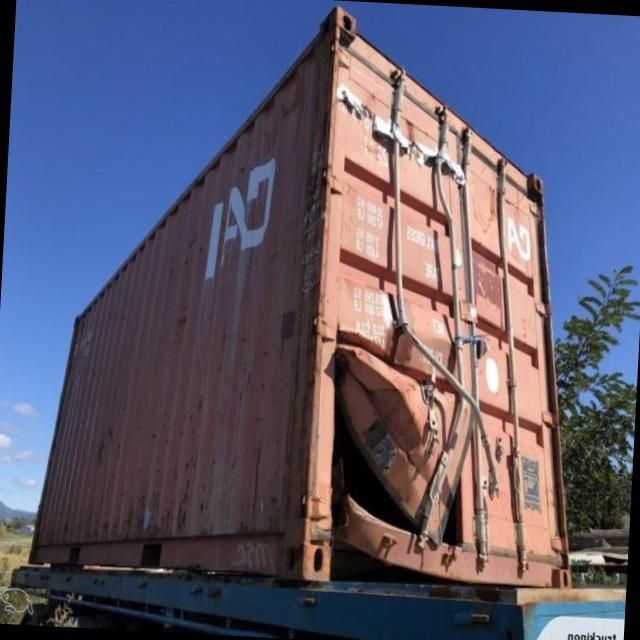Deframe_or_Dent: (308, 284, 506, 586)
Rust: (282, 24, 344, 569), (91, 462, 198, 548)
